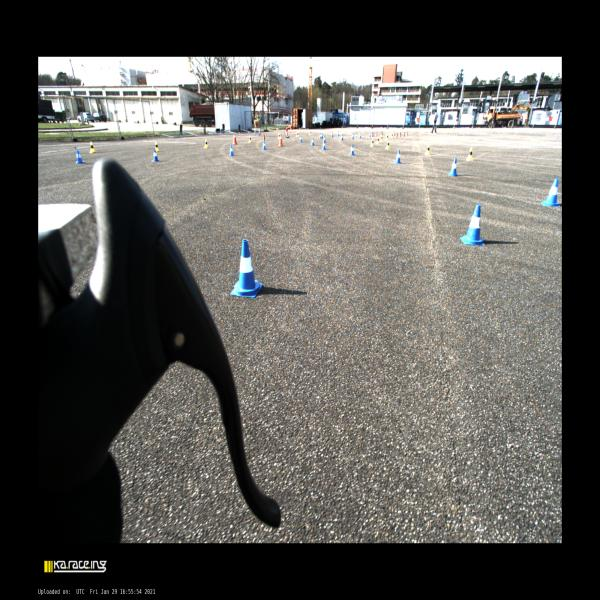blue_cone: (230, 238, 263, 298), (460, 204, 485, 246), (540, 178, 560, 207), (446, 158, 458, 176), (152, 148, 160, 162), (394, 149, 401, 164), (76, 150, 84, 163), (229, 144, 234, 156), (349, 144, 354, 155), (321, 140, 326, 150), (262, 141, 266, 150), (311, 137, 314, 146), (323, 135, 326, 143), (299, 135, 302, 142), (340, 134, 343, 140), (351, 133, 354, 139), (319, 132, 322, 138), (331, 131, 333, 137), (359, 132, 361, 138), (321, 132, 323, 138), (338, 131, 340, 136), (369, 132, 371, 137)
large_orange_cone: (278, 133, 284, 146), (232, 132, 238, 145)
orange_cone: (395, 132, 398, 138), (406, 131, 409, 137), (393, 131, 396, 136), (399, 132, 402, 137), (375, 131, 378, 135), (381, 130, 383, 136), (403, 131, 405, 137), (371, 132, 373, 137)
yellow_cone: (465, 146, 474, 162), (89, 141, 96, 153), (154, 140, 160, 152), (424, 144, 430, 156), (204, 138, 208, 148), (385, 140, 389, 149), (248, 135, 252, 143), (370, 138, 373, 147), (376, 136, 379, 144), (380, 135, 383, 142), (390, 133, 394, 138), (309, 130, 312, 136), (386, 134, 389, 139), (278, 133, 280, 139), (296, 132, 298, 137)
